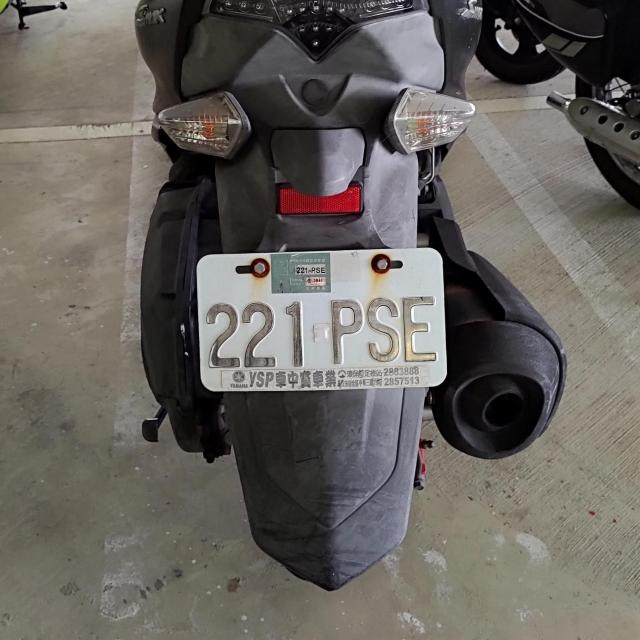W: (195, 248, 442, 387)
